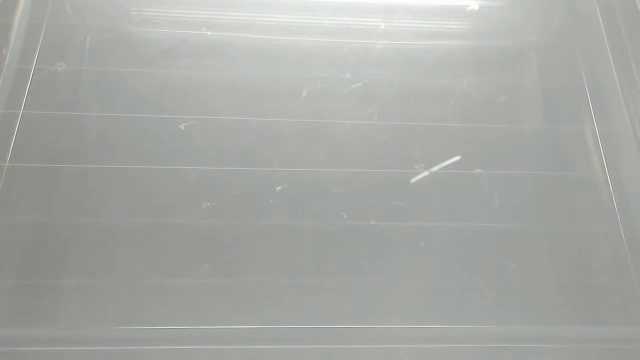alpha: (407, 153, 466, 187), (462, 1, 481, 17)
